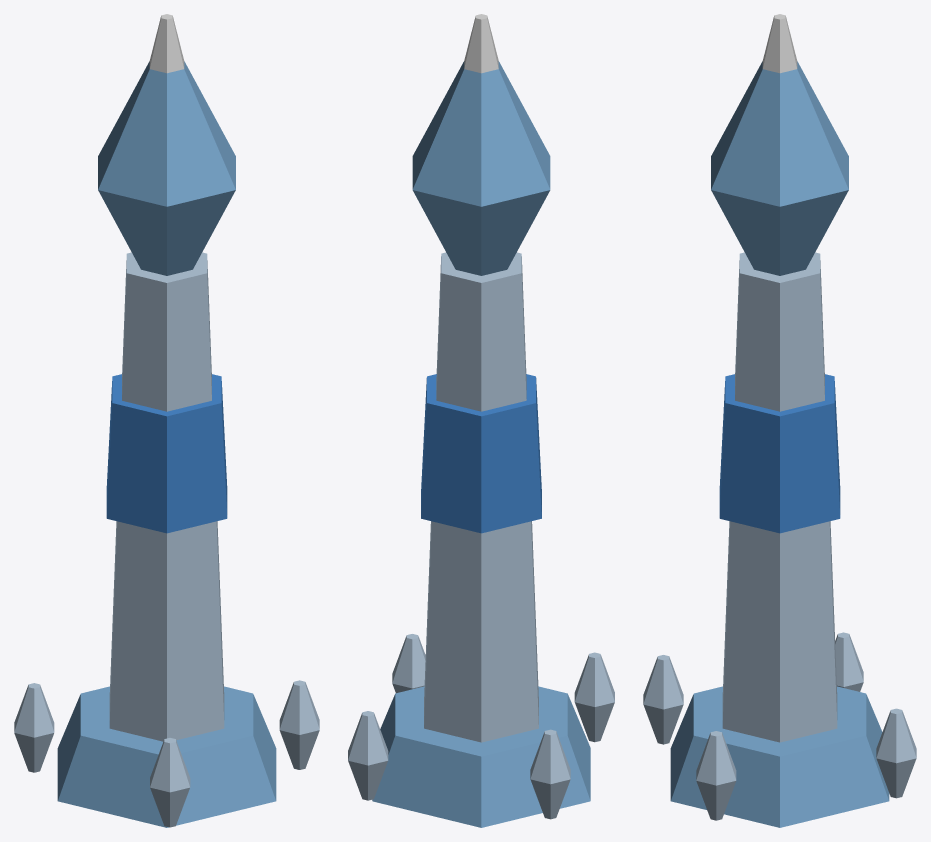
Rendered from towerA.glb.
The picture shows the model from 3 angles, left to right: view 1: azimuth 30°, elevation 25°; view 2: azimuth 150°, elevation 25°; view 3: azimuth 270°, elevation 25°; orthographic projection.
Parts seen in each view (by area): view 1: snowPeak-towerA; view 2: snowPeak-towerA; view 3: snowPeak-towerA.
Part boxes in pixels (<box>): snowPeak-towerA: <box>14,14,319,827</box>; snowPeak-towerA: <box>348,14,614,827</box>; snowPeak-towerA: <box>643,14,916,827</box>.
Size of the model in its own units: 0.421 by 1.26 by 0.4117.
